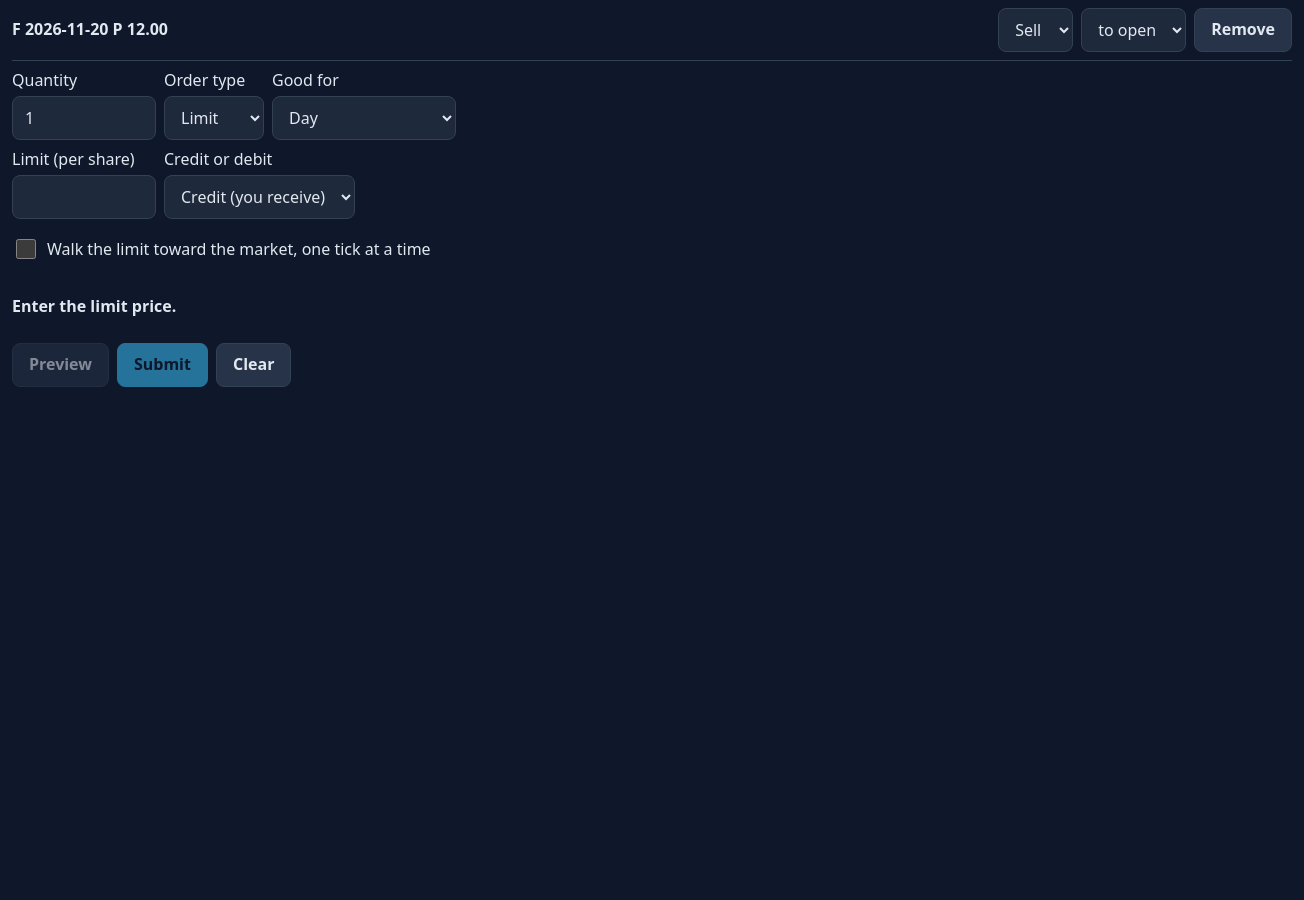
Ticket › a preview rejected for position_cap disables Submit and says why in plain words
Type "0.45" into the field labelled "Limit (per share)" at (84, 197), box [12, 175, 156, 219]
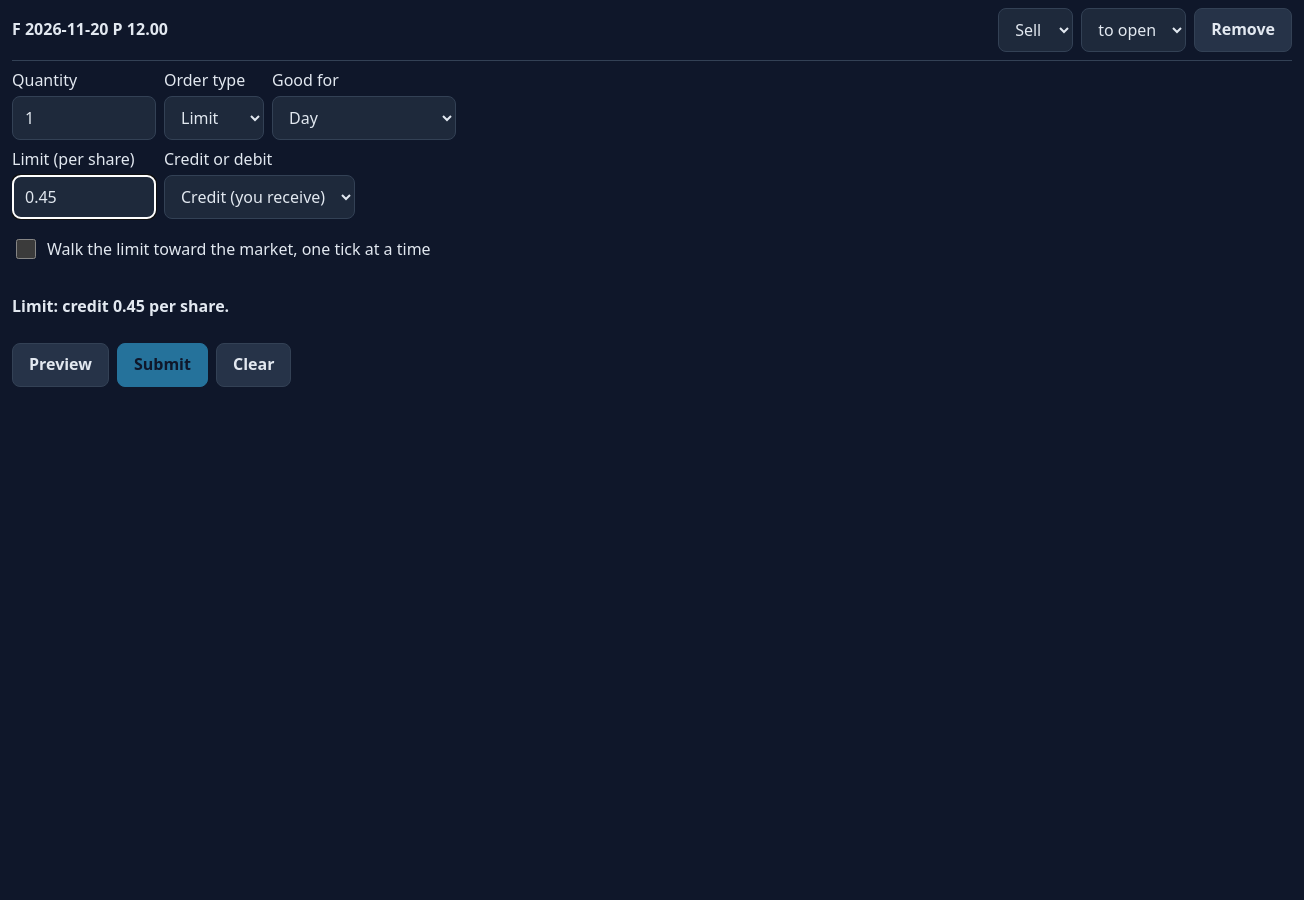
Click the button "Preview" at (60, 365), box [12, 343, 109, 387]
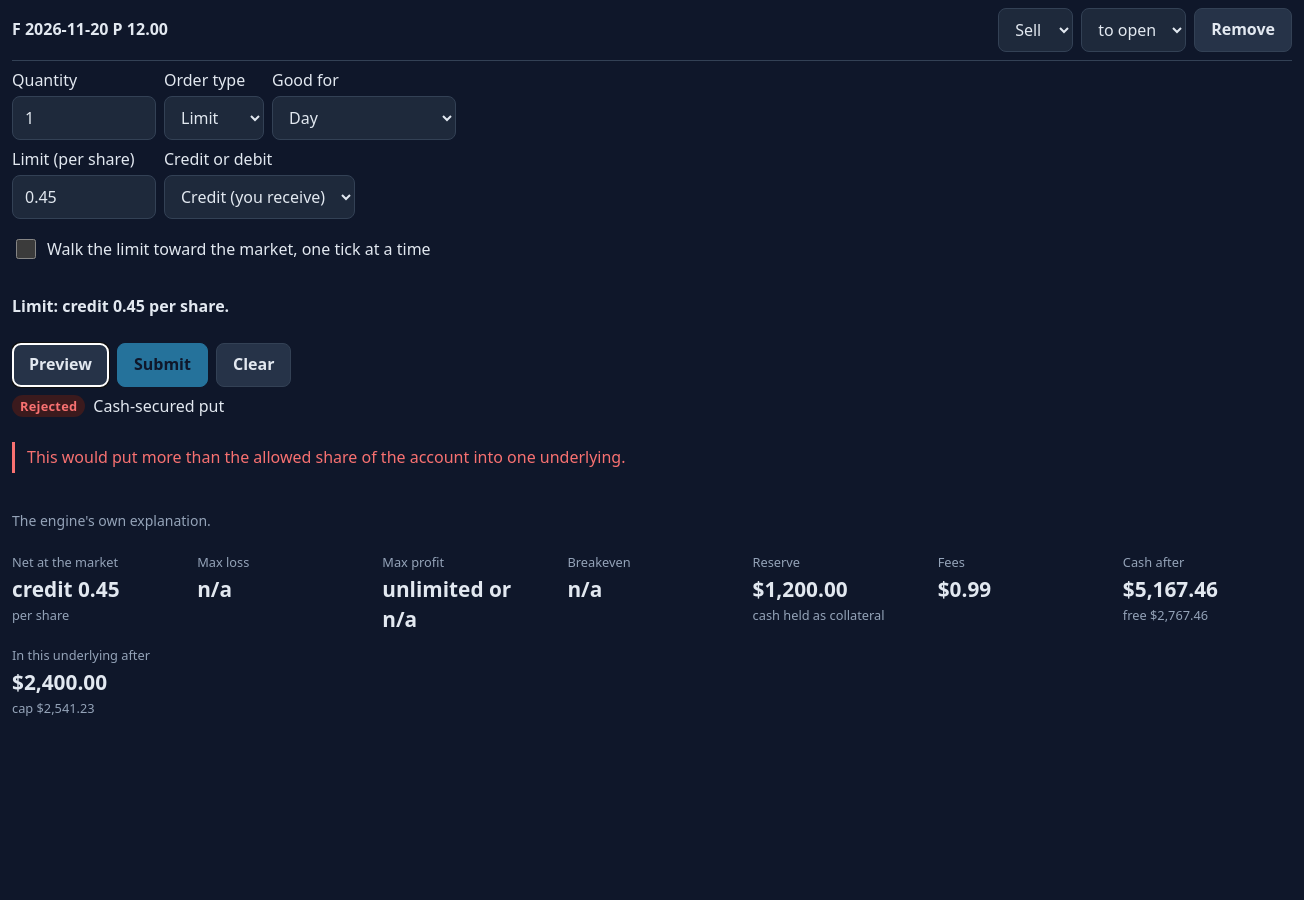
Check: the text "Rejected" is shown, box [12, 395, 85, 417]
Check: the message reads "This would put more than the allowed share of the account into one underlying.", box [27, 446, 626, 468]
Check: the text "The engine's own explanation." is shown, box [12, 511, 211, 530]
